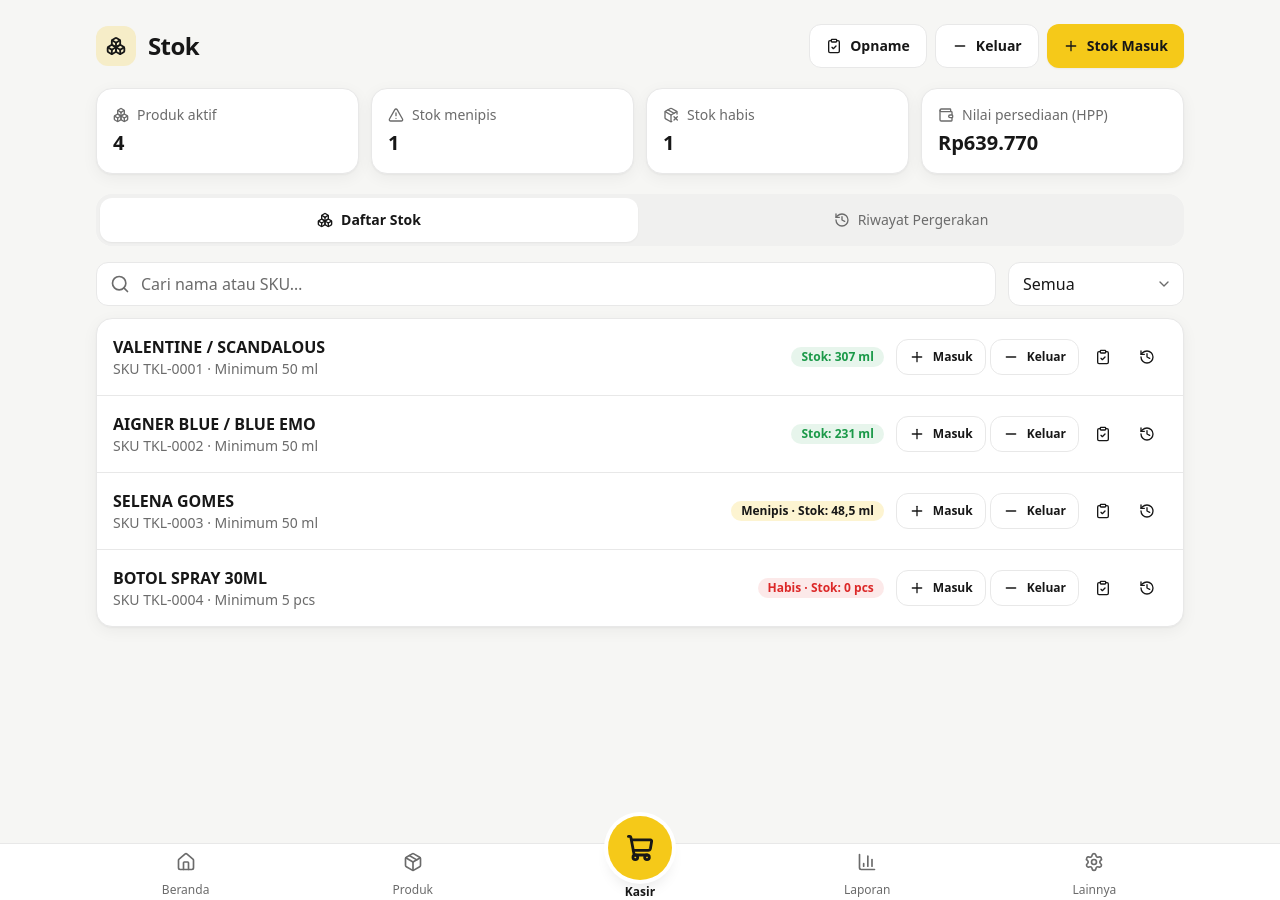
Scenario: Halaman Stok › ringkasan persediaan dan daftar stok dengan filter
This screenshot has width=1280, height=900.
Expected: the tab "Daftar Stok" is shown, [100,198,638,242]
Expected: the number of elements with test id "stock-row" is 4, [113,336,1167,378]; [97,395,1183,472]; [97,472,1183,549]; [97,549,1183,626]
Select "Menipis & habis" in the dropdown named "Filter level stok": (1096, 284) [1008,262,1184,306]
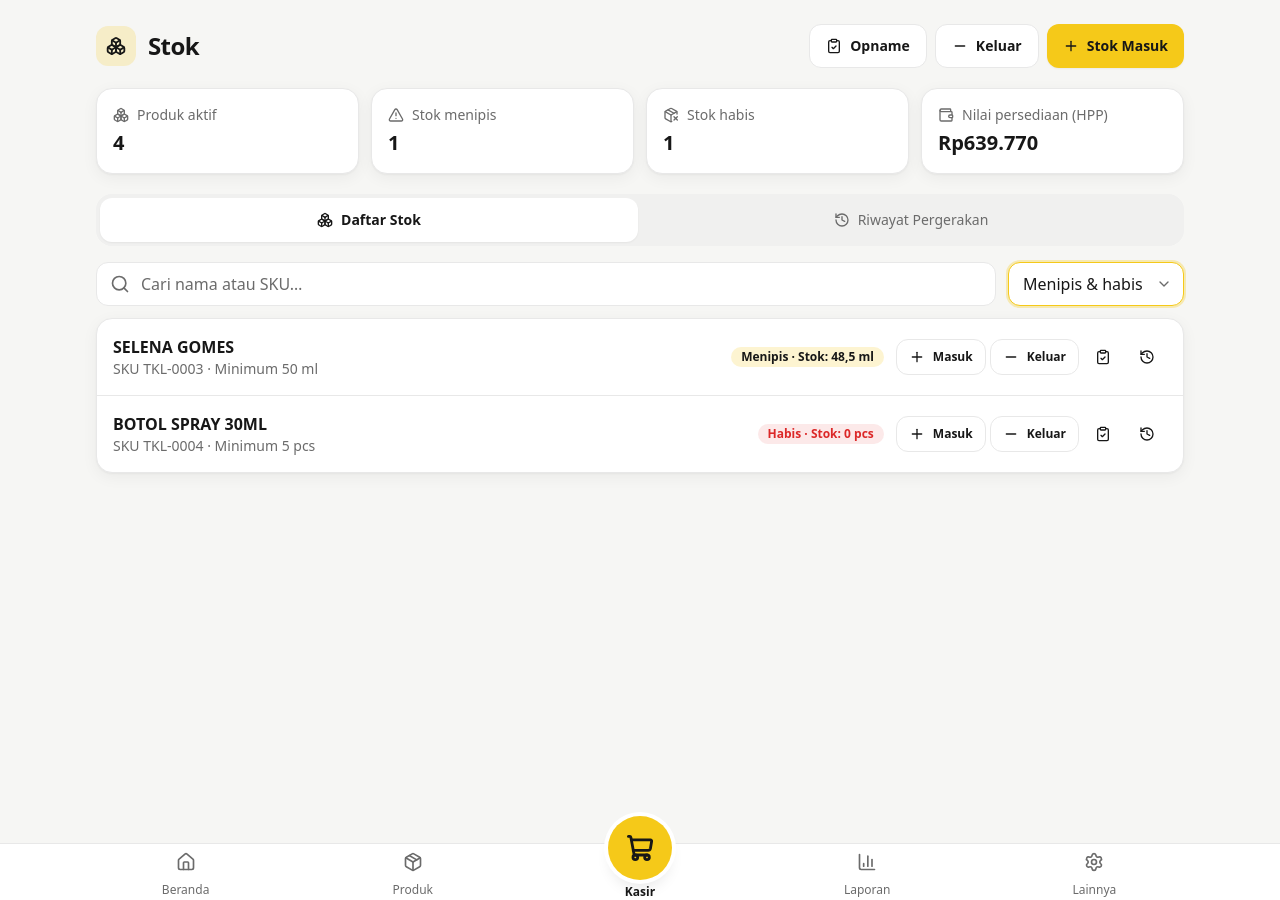
Expected: the number of elements with test id "stock-row" is 2, [113,336,1167,378]; [97,395,1183,472]
Select "Habis" in the dropdown named "Filter level stok": (1096, 284) [1008,262,1184,306]
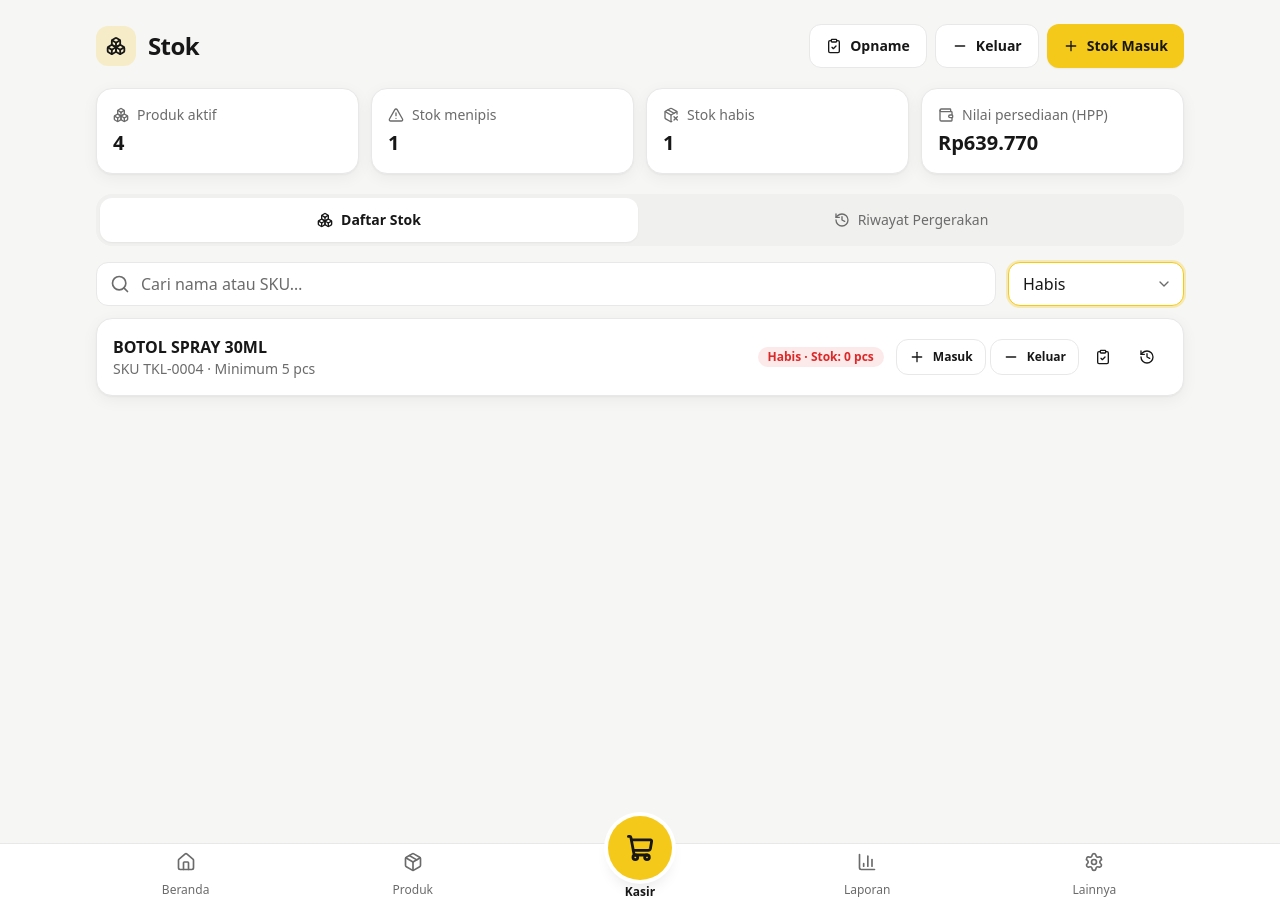
Expected: the text "BOTOL SPRAY 30ML" is shown, [113,336,267,358]
Expected: the number of elements with test id "stock-row" is 1, [113,336,1167,378]
